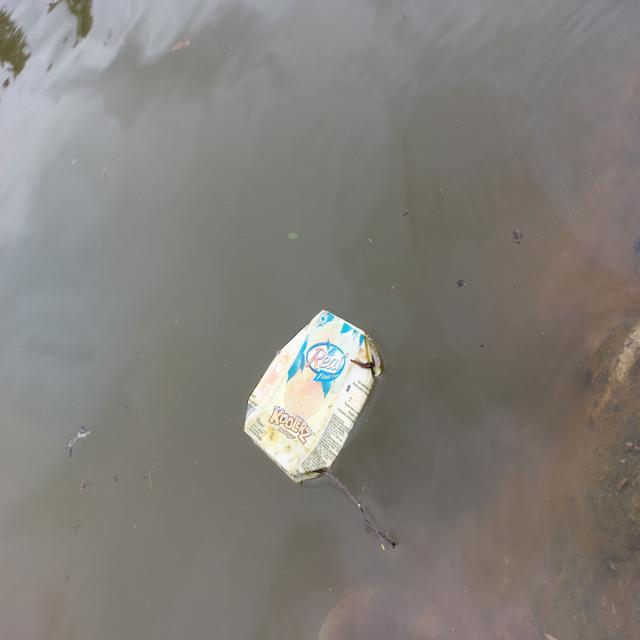paper: (238, 302, 397, 516)
